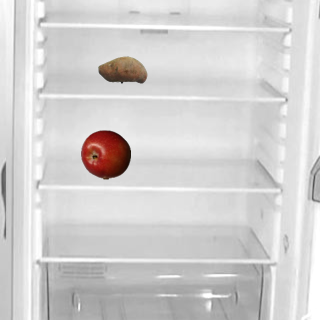Apple Braeburn: (80, 129, 130, 179)
Potato Sweet: (97, 44, 147, 94)
